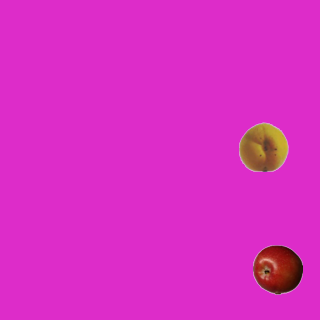Apple Braeburn: (252, 244, 302, 294)
Peach 2: (238, 121, 288, 171)
